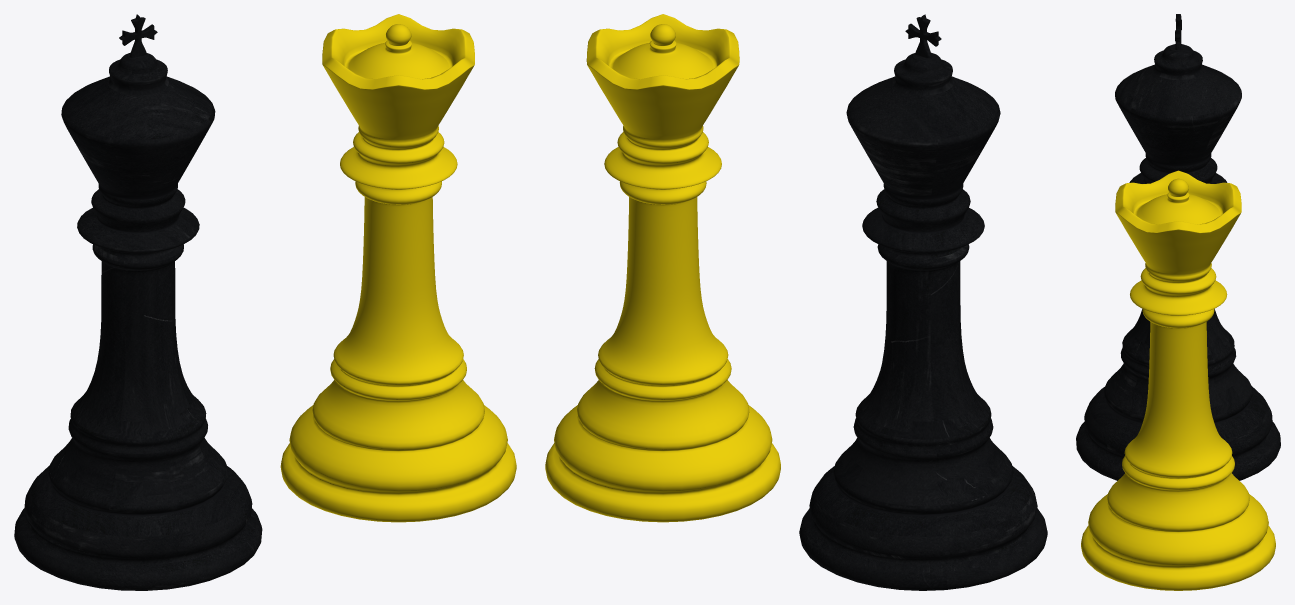
File: stauton.glb
3 views of the same model, side by side, from view 1: azimuth 30°, elevation 25°; view 2: azimuth 150°, elevation 25°; view 3: azimuth 270°, elevation 25° (orthographic). The views are drawn at different scales.
Visible parts, largest first — view 1: king, dama; view 2: king, dama; view 3: dama, king.
Boxes of the visible parts, x1,y1,x2,y2 form: king: (14,14,262,590); dama: (280,14,516,522); king: (799,14,1047,590); dama: (545,14,780,522); dama: (1081,170,1275,590); king: (1076,14,1280,480).
Bounding box in the file's own units: 26.33 × 28.4 × 12.03.
Materials: 2 (1 with a texture image).
